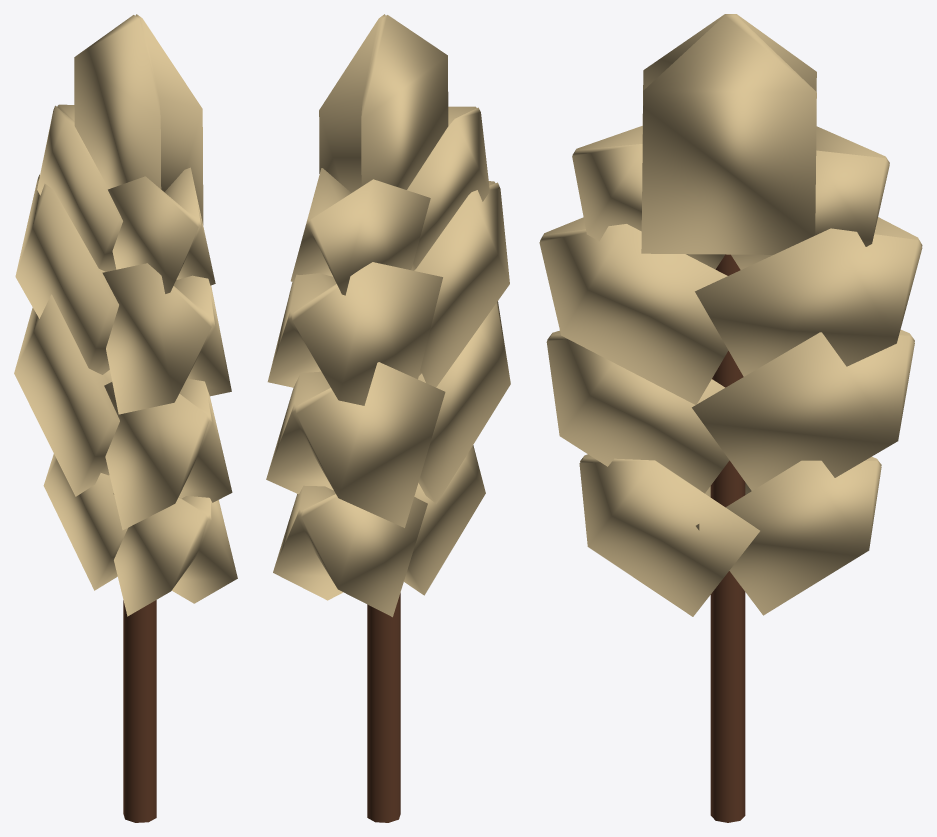
File: wheat.fbx
3 views of the same model, side by side, from view 1: azimuth 30°, elevation 25°; view 2: azimuth 150°, elevation 25°; view 3: azimuth 270°, elevation 25° (orthographic).
Parts seen in each view (by area): view 1: Cube.008, Cube.001, Cube.002, Cube.006, Cube.003, Cube.007, Cube.009, Cylinder, Cube.004, Cube.005; view 2: Cube.006, Cube.008, Cube.007, Cube.005, Cube.001, Cube.004, Cube.002, Cylinder, Cube.009, Cube.003; view 3: Cube.008, Cube.007, Cube.001, Cube.006, Cube.003, Cube.005, Cube.002, Cylinder, Cube.004, Cube.009.
Boxes of the visible parts, <box> form: Cube.008: <box>74,14,203,224</box>; Cube.001: <box>102,263,231,414</box>; Cube.002: <box>104,379,232,530</box>; Cube.006: <box>14,294,119,496</box>; Cube.003: <box>113,493,237,616</box>; Cube.007: <box>15,174,118,374</box>; Cube.009: <box>108,167,215,293</box>; Cylinder: <box>123,600,156,822</box>; Cube.004: <box>37,104,122,271</box>; Cube.005: <box>43,454,127,590</box>; Cube.006: <box>266,362,445,527</box>; Cube.008: <box>319,14,448,192</box>; Cube.007: <box>267,262,442,405</box>; Cube.005: <box>273,485,427,617</box>; Cube.001: <box>414,181,509,387</box>; Cube.004: <box>290,168,430,295</box>; Cube.002: <box>418,301,510,503</box>; Cylinder: <box>367,593,400,822</box>; Cube.009: <box>407,106,489,270</box>; Cube.003: <box>404,445,485,595</box>; Cube.008: <box>641,14,816,254</box>; Cube.007: <box>695,217,922,376</box>; Cube.001: <box>539,217,728,404</box>; Cube.006: <box>692,329,914,490</box>; Cube.003: <box>579,454,759,616</box>; Cube.005: <box>696,456,881,615</box>; Cube.002: <box>546,330,729,493</box>; Cylinder: <box>710,254,745,822</box>; Cube.004: <box>731,126,889,269</box>; Cube.009: <box>572,126,725,269</box>.
Bounding box in the file's own units: 6.85 × 59.33 × 25.73.
